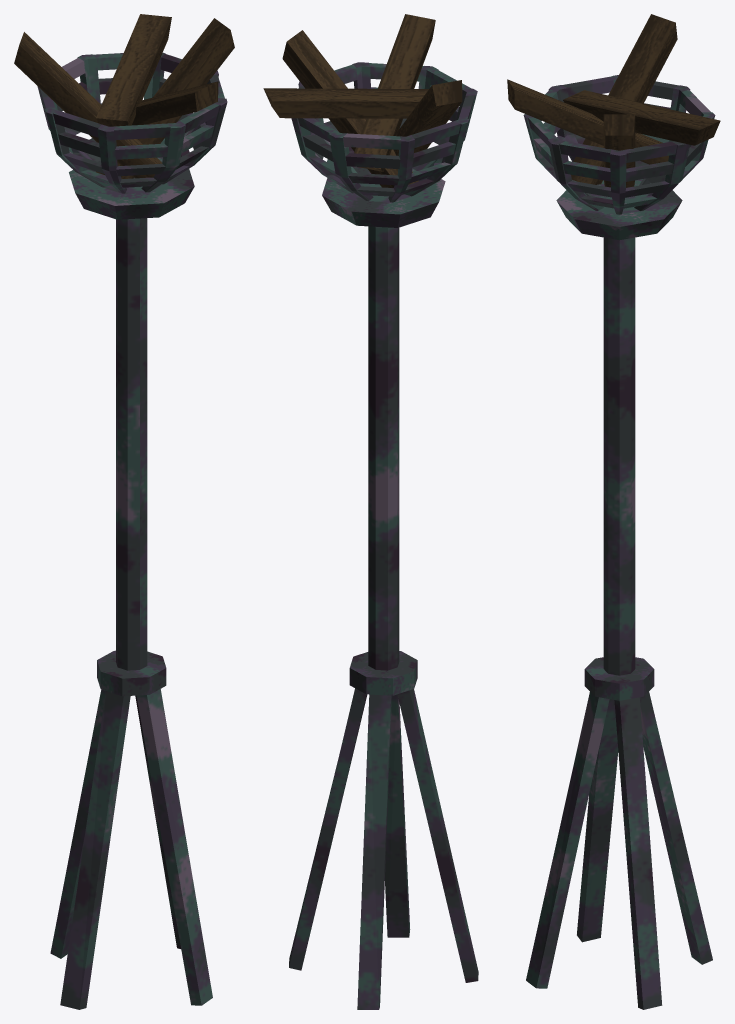
Rendered from Standfackel V2.fbx.
3 renders of one model, left to right at view 1: azimuth 30°, elevation 25°; view 2: azimuth 150°, elevation 25°; view 3: azimuth 270°, elevation 25°, orthographic. The views are drawn at different scales.
Visible parts, largest first — view 1: Standfackel V2; view 2: Standfackel V2; view 3: Standfackel V2.
Part boxes in pixels (<box>): Standfackel V2: <box>14,14,234,1009</box>; Standfackel V2: <box>263,14,478,1009</box>; Standfackel V2: <box>507,14,720,1009</box>.
Bounding box in the file's own units: 34.54 × 33.89 × 160.
Materials: 1 (1 with a texture image).
